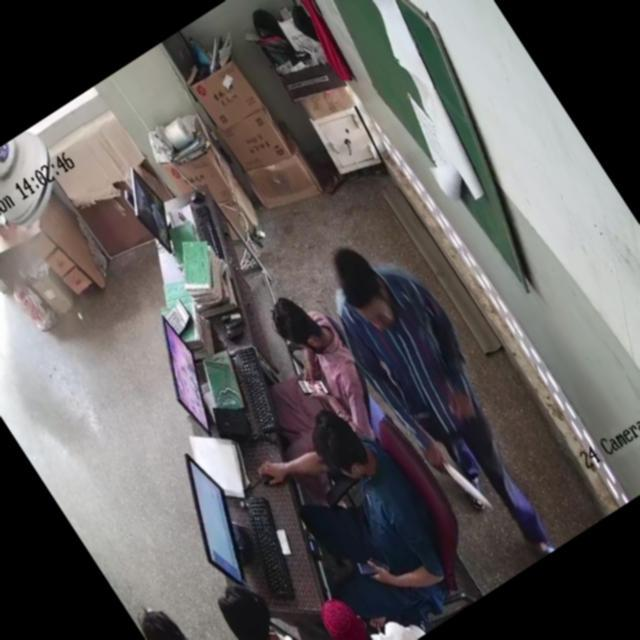person: (312, 229, 566, 566), (261, 397, 456, 610), (226, 282, 366, 430), (190, 570, 337, 640), (131, 581, 268, 640), (310, 570, 416, 640)
